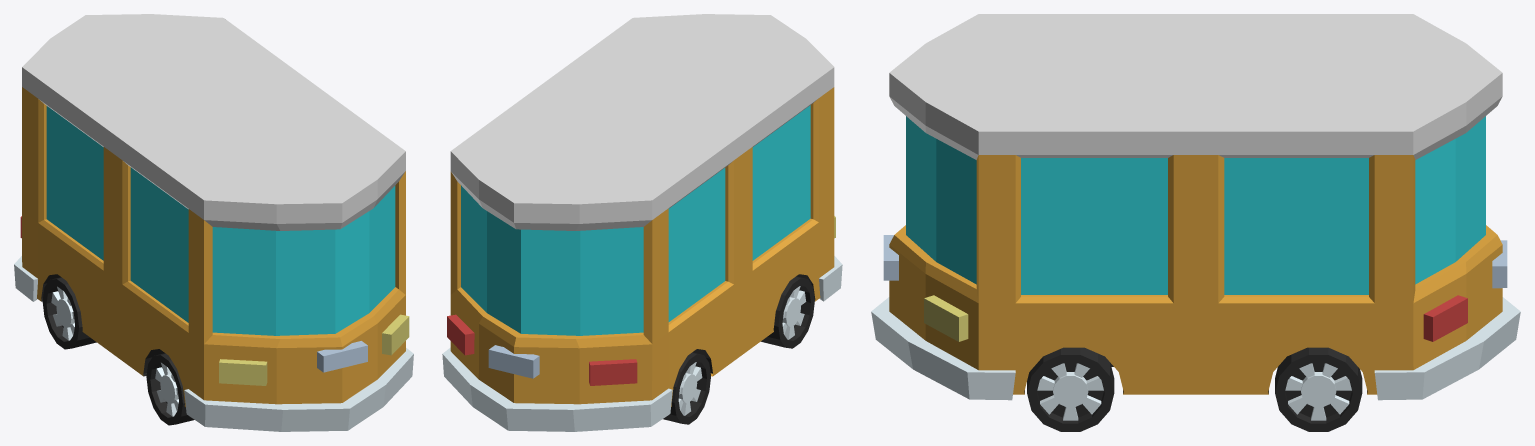
Rendered from Car_03_v2.fbx.
3 renders of one model, left to right at view 1: azimuth 30°, elevation 25°; view 2: azimuth 150°, elevation 25°; view 3: azimuth 270°, elevation 25°, orthographic. The views are drawn at different scales.
Parts seen in each view (by area): view 1: Van, Tires, Van.001; view 2: Van, Tires, Van.001; view 3: Van, Tires, Van.001.
Boxes of the visible parts, x1,y1,x2,y2 form: Van: [14, 14, 413, 431]; Tires: [42, 277, 194, 425]; Van.001: [20, 216, 409, 385]; Van: [442, 14, 842, 431]; Tires: [663, 276, 814, 424]; Van.001: [447, 216, 835, 385]; Van: [871, 14, 1520, 400]; Tires: [1027, 347, 1362, 431]; Van.001: [924, 295, 1467, 341].
Size of the model in its own units: 413 by 469 by 925.
